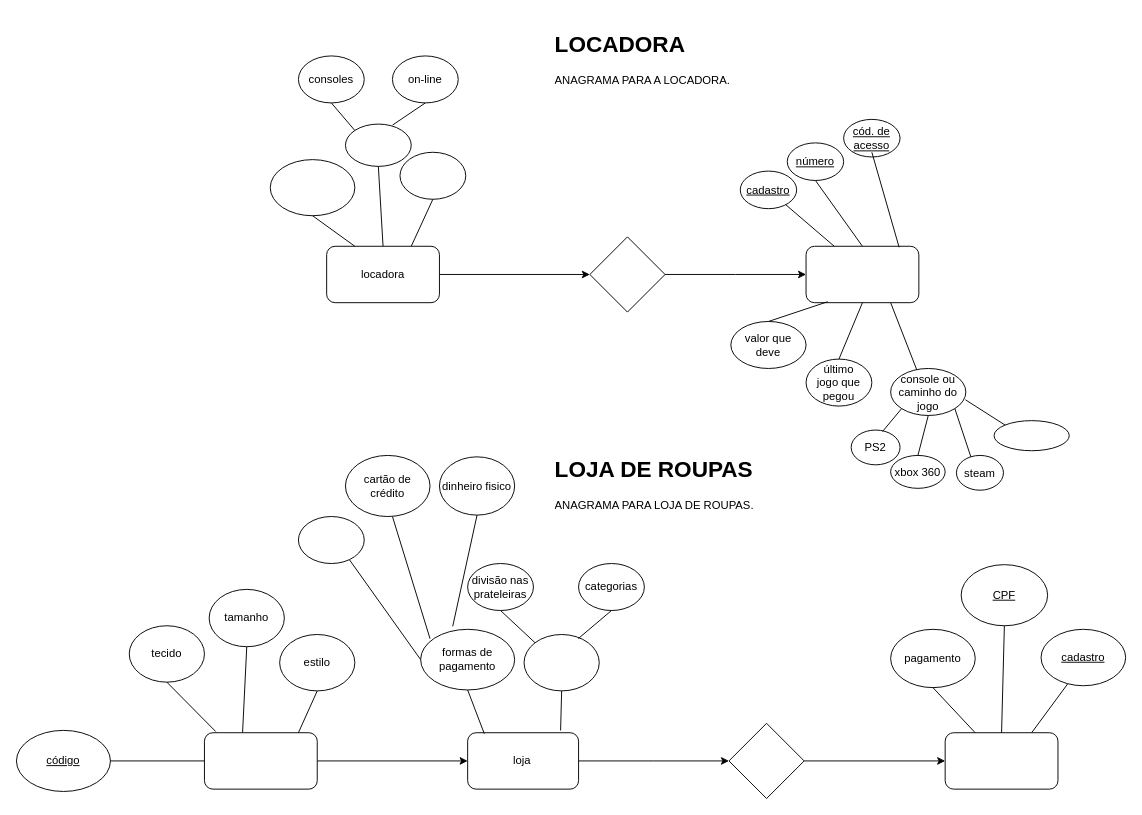
This 1142x815 diagram has some shape labels left out. The centre of each missing label's shape, as x and y in pixels:
aluguel de jogos: the point at 627,274
categoria de jogos: the point at 312,187
cliente: the point at 862,274
consumidor: the point at 1001,760
cód. de acesso do cliente: the point at 432,175
dispositivos: the point at 378,144
estoque: the point at 766,760
organização para distribuição: the point at 561,662
pix: the point at 331,540
roupas: the point at 260,760
xbox game pass: the point at 1031,435
